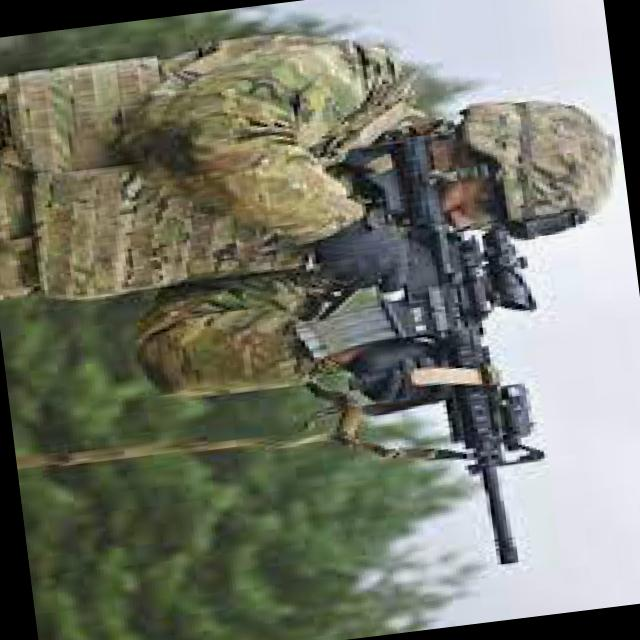long weapon: (345, 217, 613, 570)
